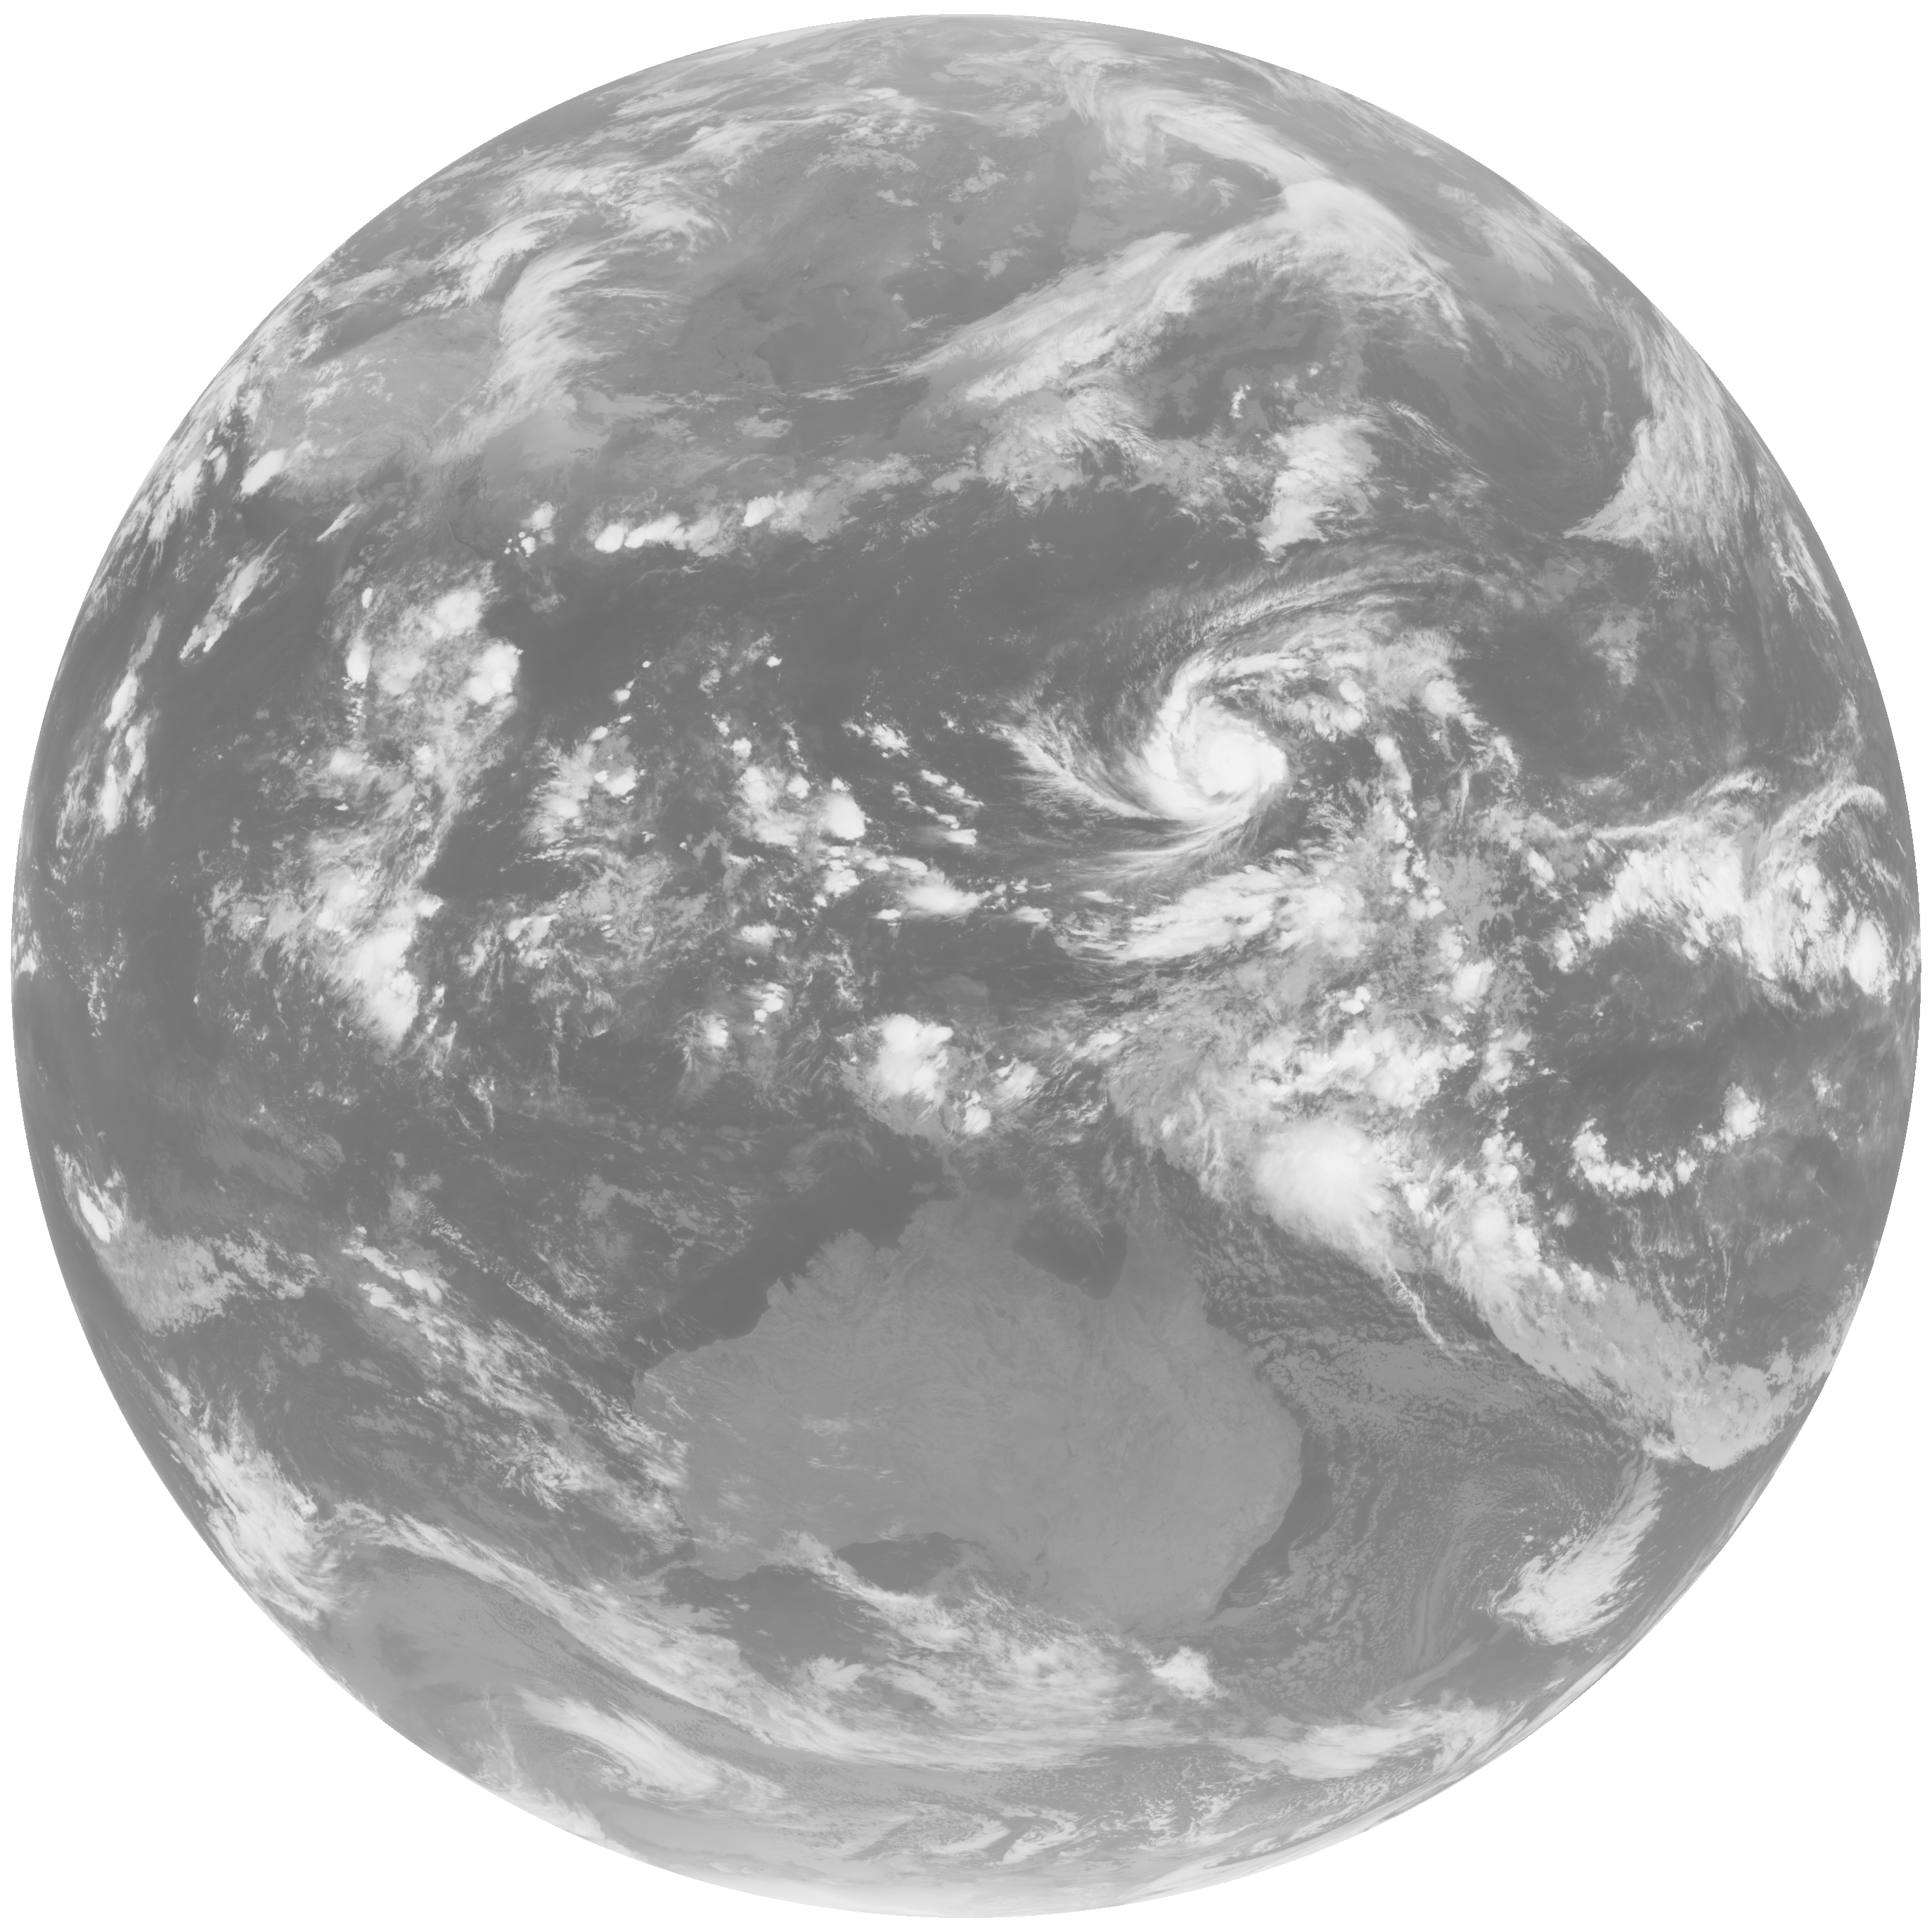typhoon: (984, 561, 1435, 899)
